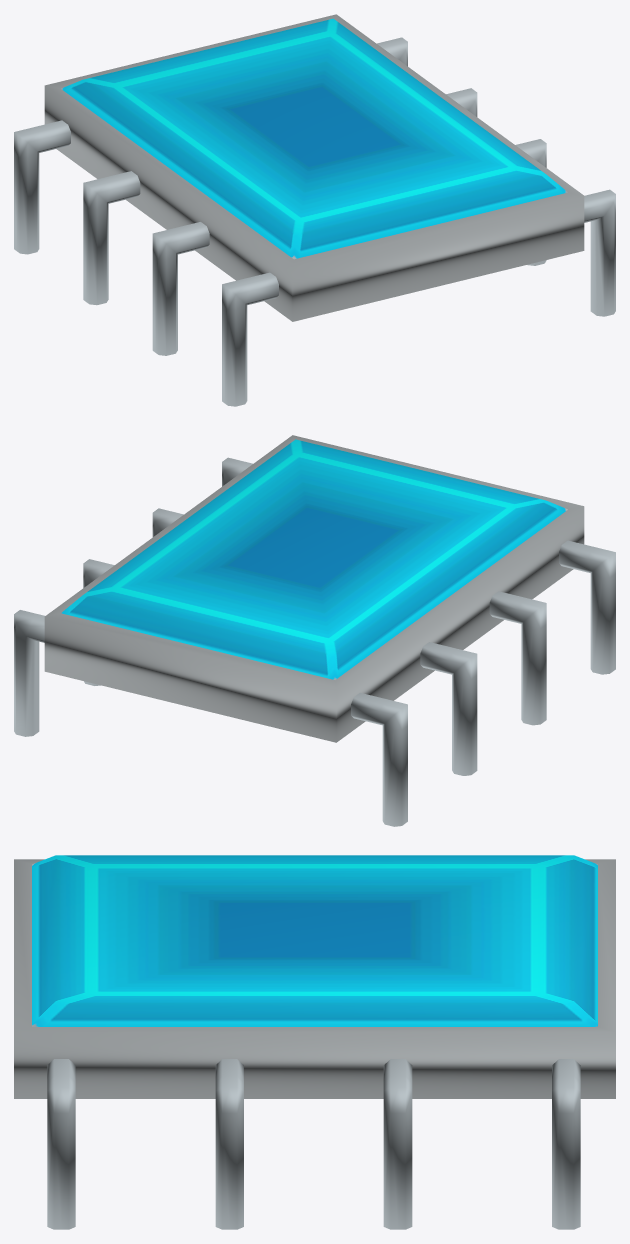
The model's file is Chip.obj.
The picture shows the model from 3 angles, top to bottom: view 1: azimuth 30°, elevation 25°; view 2: azimuth 150°, elevation 25°; view 3: azimuth 270°, elevation 25°; orthographic projection. The views are drawn at different scales.
Parts seen in each view (by area): view 1: Cube; view 2: Cube; view 3: Cube.
Boxes of the visible parts, x1,y1,x2,y2 form: Cube: [14, 14, 615, 406]; Cube: [14, 435, 615, 826]; Cube: [14, 855, 615, 1229].
Size of the model in its own units: 1.45 by 0.5439 by 1.6.
1 material, 1 textured.
